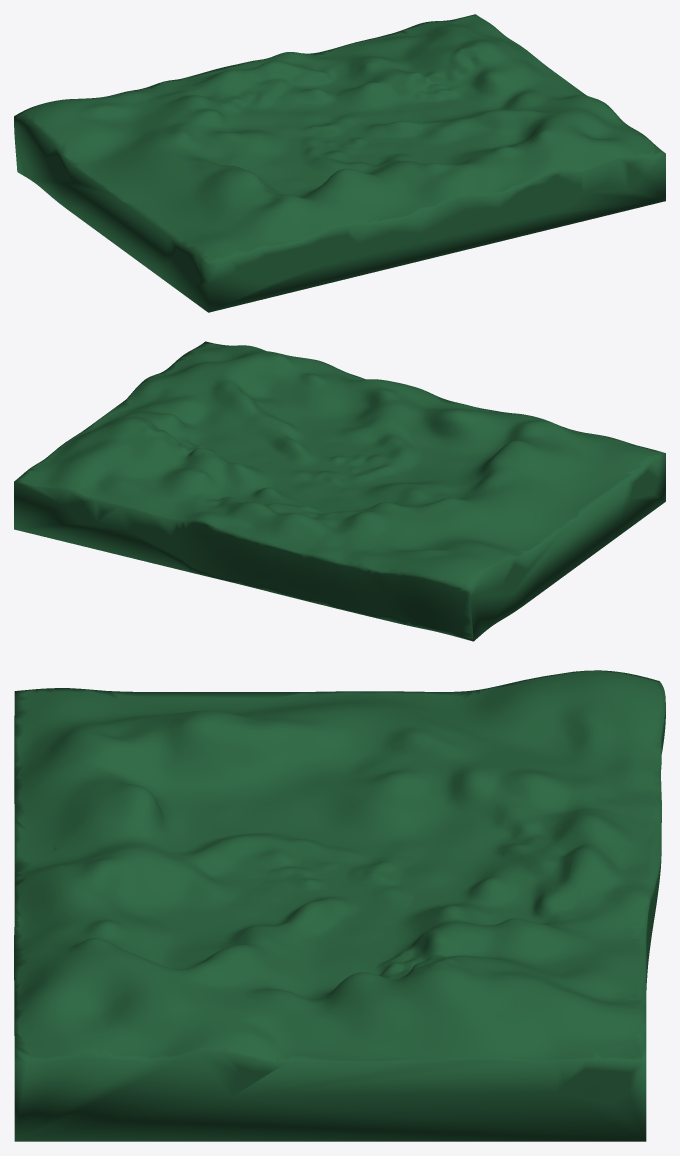
File: field.glb
3 renders of one model, top to bottom at view 1: azimuth 30°, elevation 25°; view 2: azimuth 150°, elevation 25°; view 3: azimuth 270°, elevation 25°, orthographic. The views are drawn at different scales.
Visible parts, largest first — view 1: Cube.001; view 2: Cube.001; view 3: Cube.001.
Part boxes in pixels (x1,y1,x2,y2): Cube.001: [14, 14, 665, 312]; Cube.001: [14, 341, 665, 641]; Cube.001: [14, 670, 665, 1141].
Size of the model in its own units: 967 by 155 by 718.
Materials: 1 (1 with a texture image).
